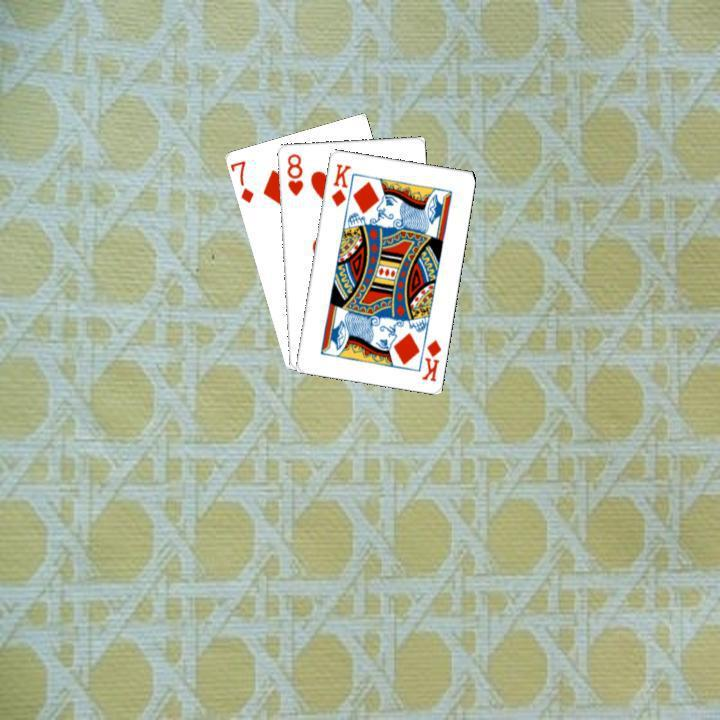7: (227, 156, 255, 205)
8: (282, 149, 305, 198)
K: (327, 159, 353, 208), (417, 335, 443, 383)
